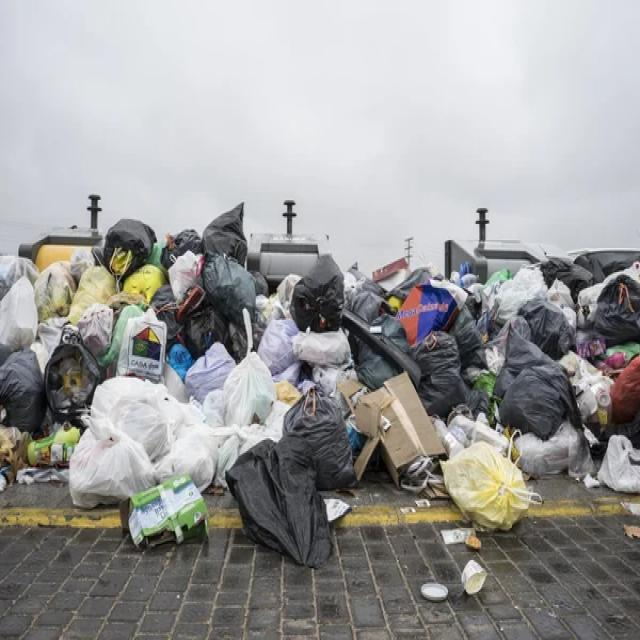garbage: (65, 201, 627, 576)
